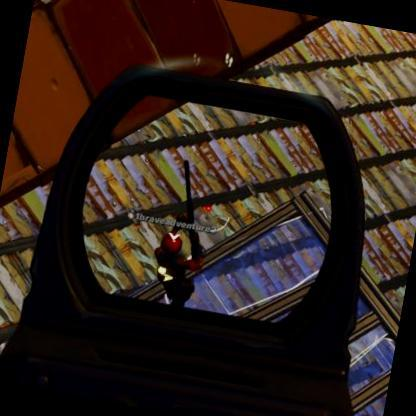person: (148, 228, 202, 306)
